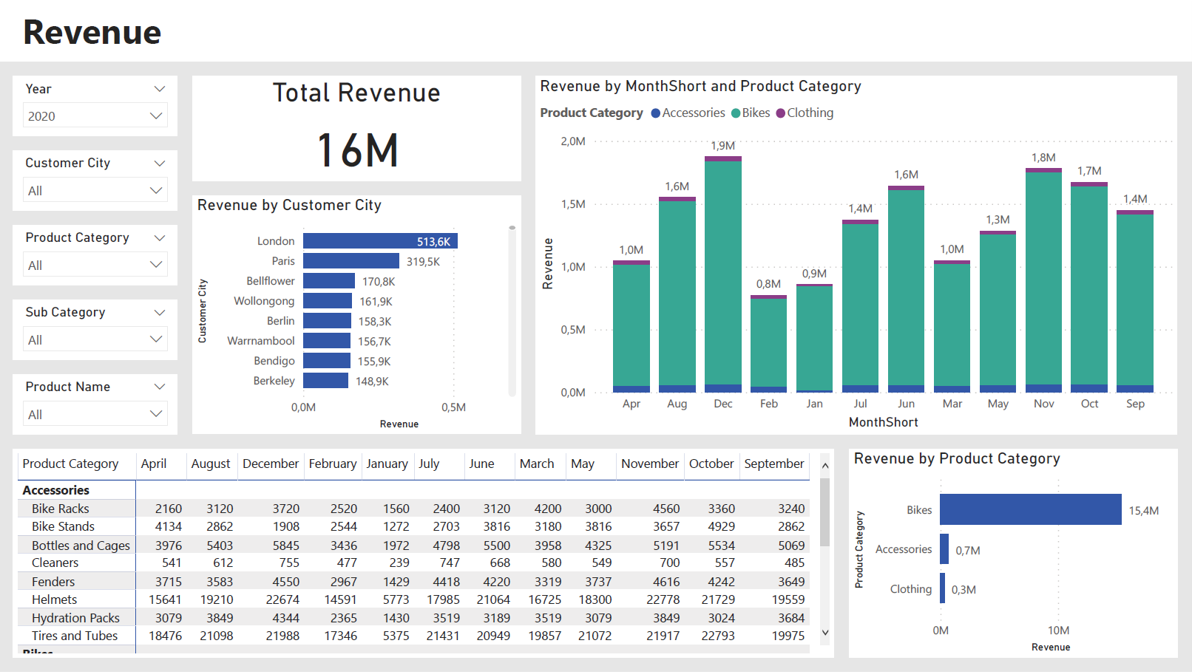

What the dashboard file says about the page in this screenshot:
{"tool":"powerbi","page":{"name":"Revenue","canvas":[1280,720],"ordinal":0},"visuals":[{"type":"textbox","box":[0,0,1280,64],"z":0},{"type":"clusteredBarChart","fields":{"Category":["Products.Product Category"],"Y":["Measures_table.Revenue"]},"box":[912,480,352,224],"z":1000},{"type":"columnChart","fields":{"Category":["Calendar.MonthShort"],"Y":["Measures_table.Revenue"],"Series":["Products.Product Category"]},"box":[576,80,688,384],"z":2000},{"type":"slicer","fields":{"Values":["Calendar.Year"]},"box":[16,80,176,64],"z":3000},{"type":"slicer","fields":{"Values":["Customers.Customer City"]},"box":[16,160,176,64],"z":4000},{"type":"card","title":"Total Revenue","fields":{"Values":["Measures_table.Revenue"]},"box":[208,80,352,112],"z":5000},{"type":"clusteredBarChart","fields":{"Y":["Measures_table.Revenue"],"Category":["Customers.Customer City"]},"box":[208,208,352,256],"z":6000},{"type":"slicer","fields":{"Values":["Products.Product Name"]},"box":[16,400,176,64],"z":7000},{"type":"slicer","fields":{"Values":["Products.Sub Category"]},"box":[16,320,176,64],"z":8000},{"type":"slicer","fields":{"Values":["Products.Product Category"]},"box":[16,240,176,64],"z":9000},{"type":"pivotTable","fields":{"Rows":["Products.Product Category","Products.Sub Category"],"Columns":["Calendar.Month"],"Values":["Measures_table.Revenue"]},"box":[16,480,880,224],"z":10000}]}

Visuals, with their boxes in screenshot pixels (x1, y1, x2, y2), scaled from the page's 1280x720 canvas onto the 1192x672 screenshot:
textbox: x1=0 y1=0 x2=1191 y2=60
clusteredBarChart - Products.Product Category x Measures_table.Revenue: x1=849 y1=448 x2=1177 y2=657
columnChart - Calendar.MonthShort x Measures_table.Revenue: x1=536 y1=75 x2=1177 y2=433
slicer - Calendar.Year: x1=15 y1=75 x2=179 y2=134
slicer - Customers.Customer City: x1=15 y1=149 x2=179 y2=209
"Total Revenue" card: x1=194 y1=75 x2=522 y2=179
clusteredBarChart - Measures_table.Revenue x Customers.Customer City: x1=194 y1=194 x2=522 y2=433
slicer - Products.Product Name: x1=15 y1=373 x2=179 y2=433
slicer - Products.Sub Category: x1=15 y1=299 x2=179 y2=358
slicer - Products.Product Category: x1=15 y1=224 x2=179 y2=284
pivotTable - Products.Product Category x Products.Sub Category: x1=15 y1=448 x2=834 y2=657
